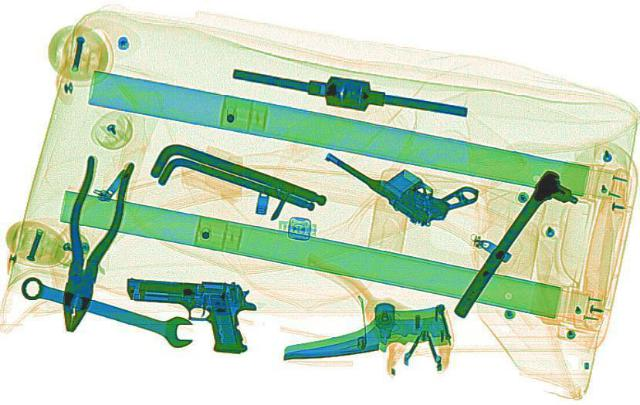Gun: (317, 122, 487, 227), (112, 274, 262, 352)
Pliers: (41, 154, 133, 331)
Wrench: (5, 271, 205, 348)
